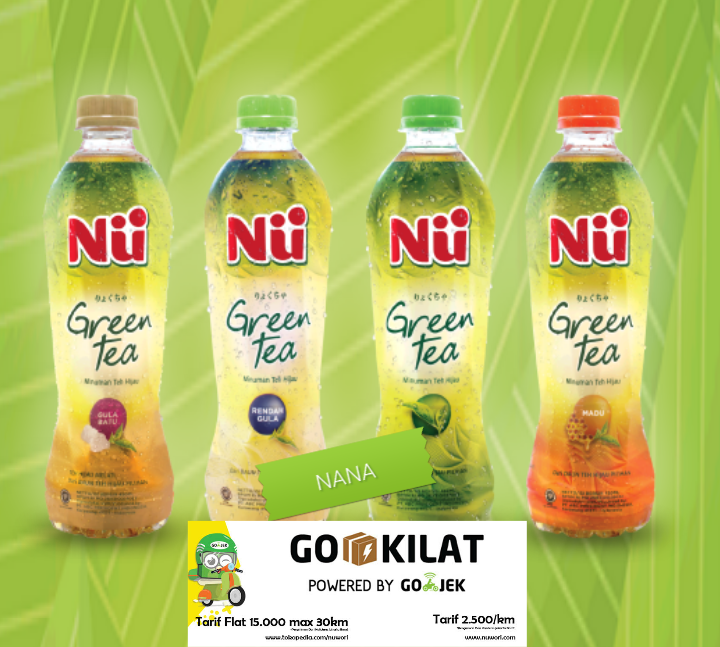botol: (40, 96, 174, 537), (525, 94, 653, 534), (530, 94, 653, 534), (366, 96, 493, 512), (373, 96, 493, 512), (209, 96, 324, 517)
